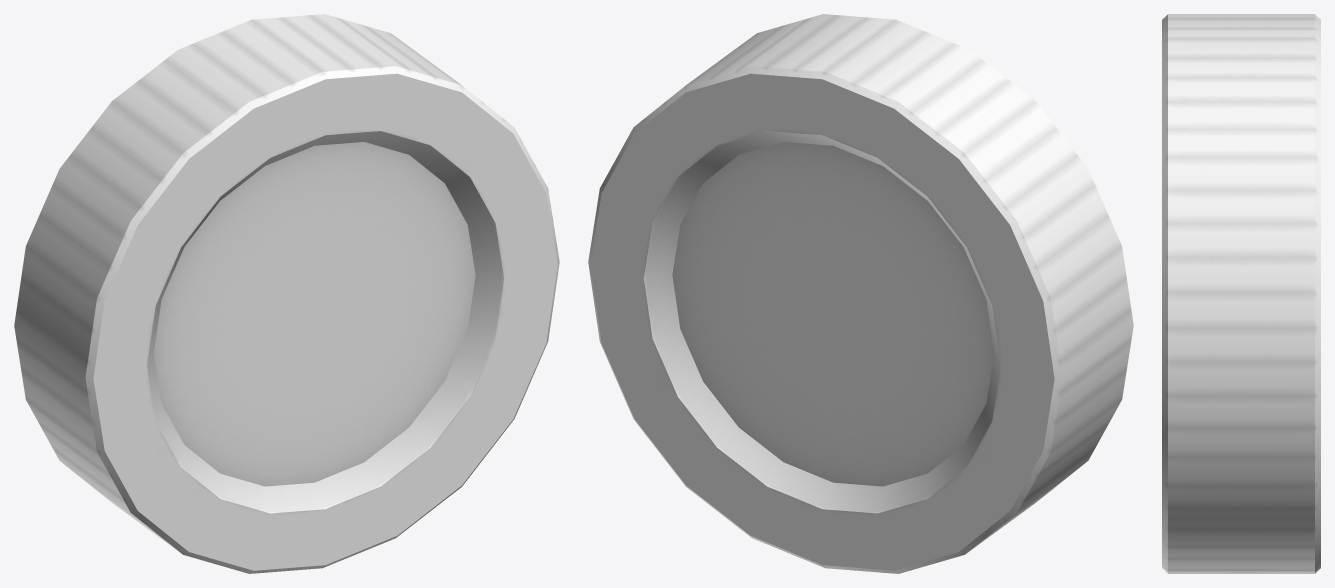
The model's file is Coin.fbx.
3 renders of one model, left to right at view 1: azimuth 30°, elevation 25°; view 2: azimuth 150°, elevation 25°; view 3: azimuth 270°, elevation 25°, orthographic. The views are drawn at different scales.
Visible parts, largest first — view 1: Coin; view 2: Coin; view 3: Coin.
Part boxes in pixels (<box>): Coin: <box>14,14,559,573</box>; Coin: <box>588,14,1133,573</box>; Coin: <box>1162,14,1320,573</box>.
Size of the model in its own units: 92.35 by 92.35 by 26.01.
Materials: 1 (1 with a texture image).
